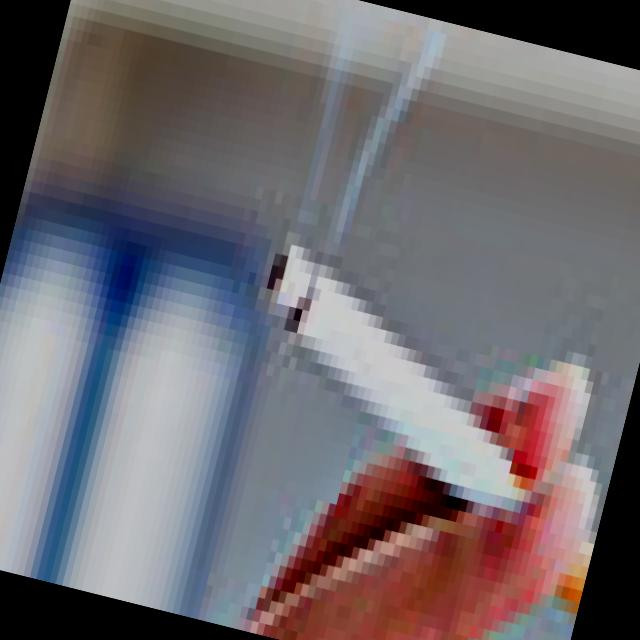smoke: (221, 234, 538, 501)
